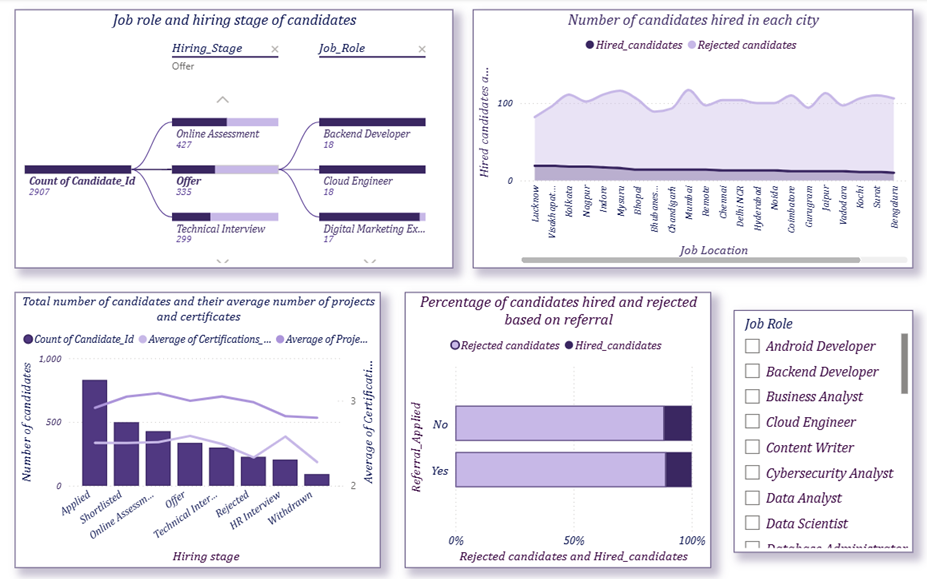

What the dashboard file says about the page in this screenshot:
{"tool":"powerbi","page":{"name":"Page 3","canvas":[1140,720],"ordinal":2},"visuals":[{"type":"decompositionTreeVisual","title":"Job role and hiring stage of candidates","fields":{"Analyze":["CountNonNull(freshers_hiring_india_dataset.Candidate_Id)"],"ExplainBy":["freshers_hiring_india_dataset.Hiring_Stage","freshers_hiring_india_dataset.Job_Role"]},"box":[22,13.5,535.6,316.7],"z":0},{"type":"lineClusteredColumnComboChart","title":"Total number of candidates and their average number of projects and certificates","fields":{"Category":["freshers_hiring_india_dataset.Hiring_Stage"],"Y":["CountNonNull(freshers_hiring_india_dataset.Candidate_Id)"],"Y2":["Avg(freshers_hiring_india_dataset.Certifications_Count)","Avg(freshers_hiring_india_dataset.Projects_Count)"]},"box":[22,359.5,447.6,337.5],"z":1000},{"type":"areaChart","title":"Number of candidates hired in each city","fields":{"Category":["freshers_hiring_india_dataset.Job_Location"],"Y":["freshers_hiring_india_dataset.Hired_candidates","freshers_hiring_india_dataset.Rejected candidates"]},"box":[582.1,13.5,538,316.7],"z":2000},{"type":"slicer","fields":{"Values":["freshers_hiring_india_dataset.Job_Role"]},"box":[901.2,381.5,218.9,297.1],"z":3000},{"type":"hundredPercentStackedBarChart","title":"Percentage of candidates hired and rejected based on referral","fields":{"Category":["freshers_hiring_india_dataset.Referral_Applied"],"Y":["freshers_hiring_india_dataset.Rejected candidates","freshers_hiring_india_dataset.Hired_candidates"]},"box":[498.9,359.5,374.2,337.5],"z":4000}]}

Visuals, with their boxes in screenshot pixels (x1, y1, x2, y2), scaled from the page's 1140x720 canvas onto the 927x579 screenshot:
"Job role and hiring stage of candidates" decompositionTreeVisual: bbox(18, 11, 453, 266)
"Total number of candidates and their average number of projects and certificates" lineClusteredColumnComboChart: bbox(18, 289, 382, 561)
"Number of candidates hired in each city" areaChart: bbox(473, 11, 911, 266)
slicer - freshers_hiring_india_dataset.Job_Role: bbox(733, 307, 911, 546)
"Percentage of candidates hired and rejected based on referral" hundredPercentStackedBarChart: bbox(406, 289, 710, 561)
